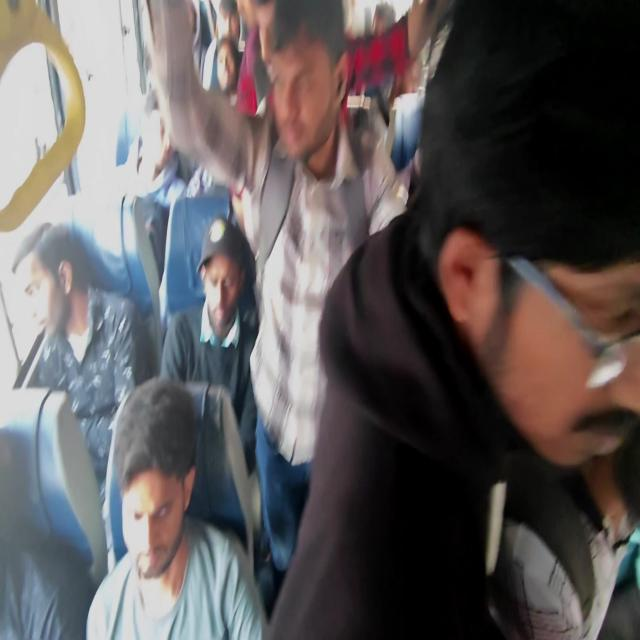person: (261, 0, 639, 638), (140, 0, 447, 597), (12, 221, 151, 571), (85, 376, 264, 638), (160, 215, 260, 474)
